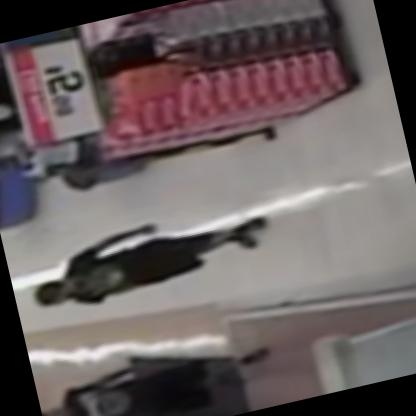Human Body: (25, 201, 276, 316), (34, 328, 290, 415)
